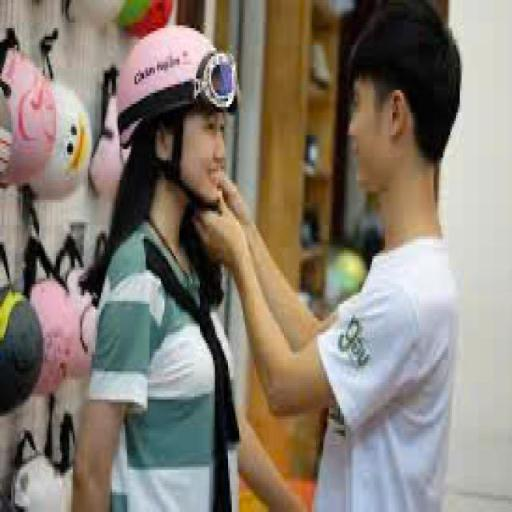with helmet: (119, 21, 240, 128), (0, 42, 56, 194), (26, 80, 90, 195), (0, 272, 43, 414), (31, 273, 75, 396), (92, 91, 134, 195), (8, 451, 65, 512), (71, 266, 98, 374)
